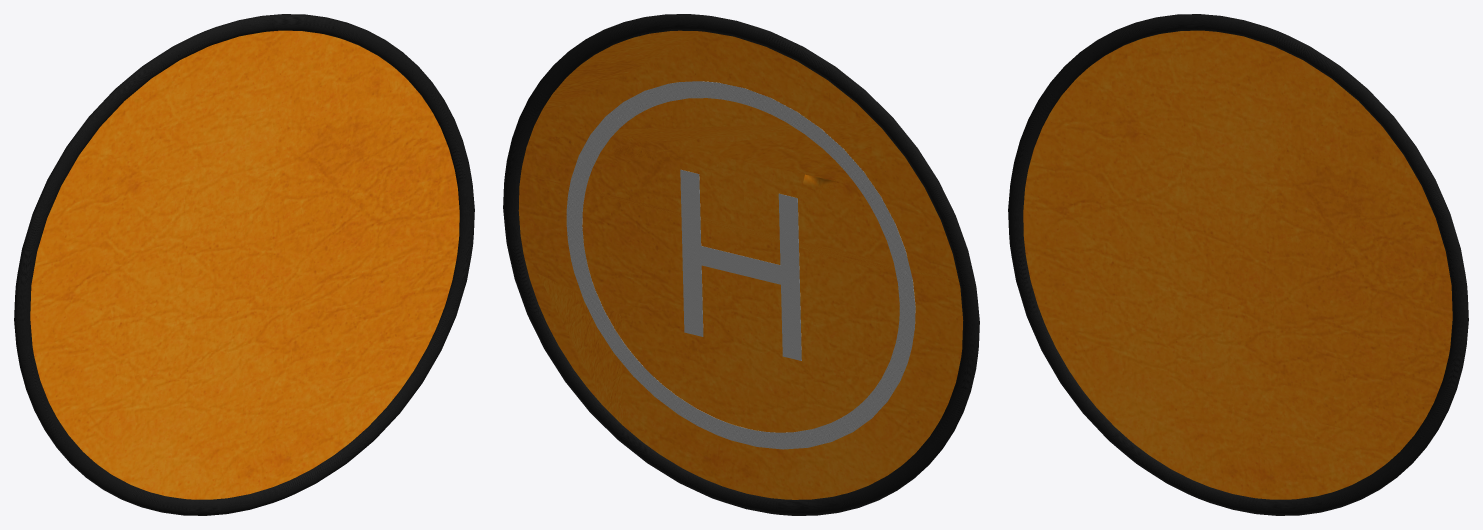
File: pad.glb
3 views of the same model, side by side, from view 1: azimuth 30°, elevation 25°; view 2: azimuth 150°, elevation 25°; view 3: azimuth 330°, elevation 25° (orthographic). The views are drawn at different scales.
Visible parts, largest first — view 1: Object_3, Object_6; view 2: Object_3, Object_21, Object_6; view 3: Object_3, Object_6.
Part boxes in pixels (box(x1,y1,x2,y2)): Object_3: box(30, 30, 459, 499); Object_6: box(14, 14, 474, 515); Object_3: box(518, 30, 963, 499); Object_21: box(566, 81, 915, 449); Object_6: box(503, 14, 979, 515); Object_3: box(1023, 30, 1452, 499); Object_6: box(1008, 14, 1468, 515).
Bounding box in the file's own units: 0.3 × 0.2997 × 0.0187.
Materials: 3 (3 with a texture image).
